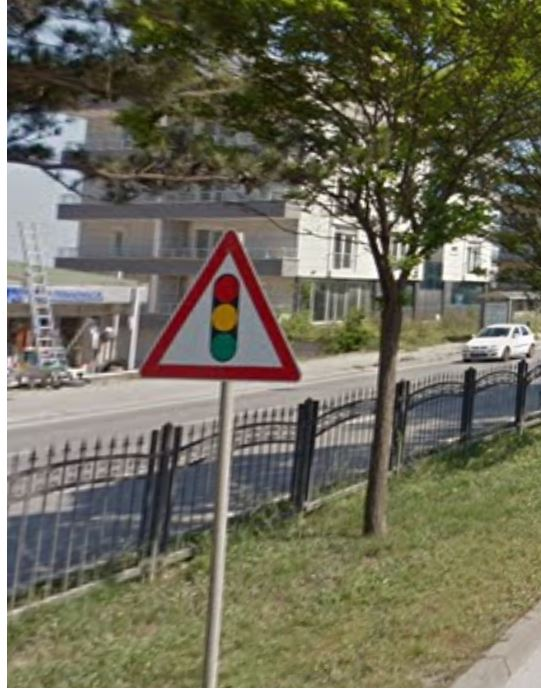Trafikisiklari: (141, 225, 305, 386)
